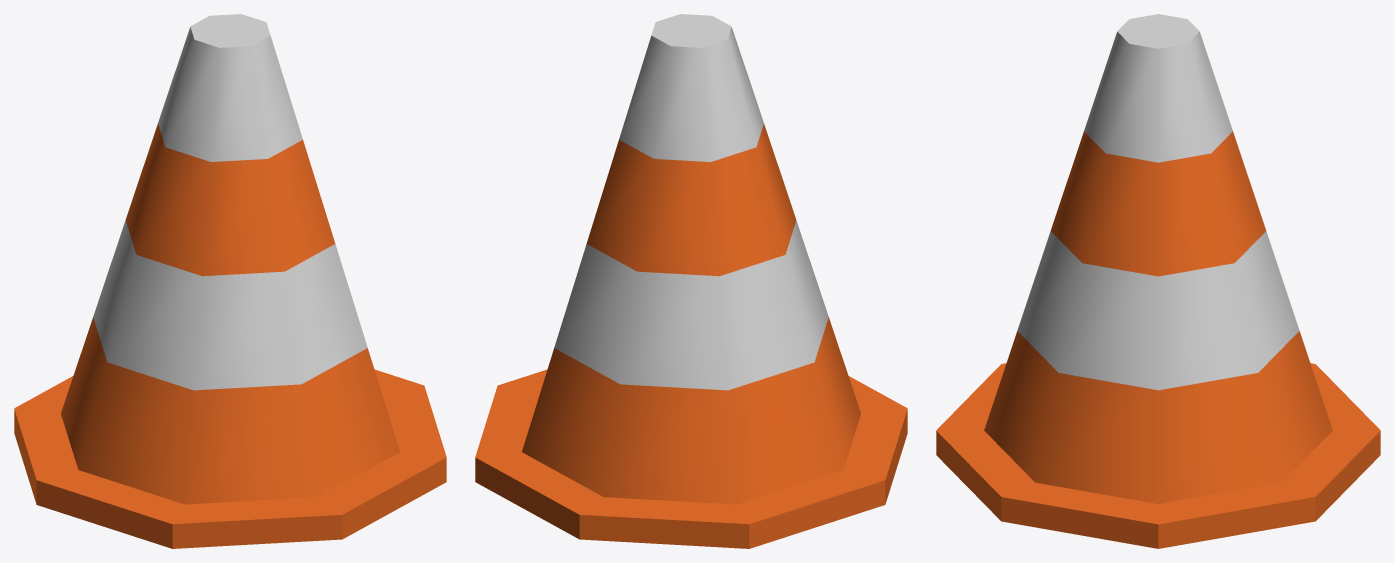
The picture shows the model from 3 angles, left to right: view 1: azimuth 30°, elevation 25°; view 2: azimuth 150°, elevation 25°; view 3: azimuth 270°, elevation 25°; orthographic projection.
Parts seen in each view (by area): view 1: Cone_01; view 2: Cone_01; view 3: Cone_01.
Part boxes in pixels (bbox=[...]): Cone_01: bbox=[14, 14, 446, 548]; Cone_01: bbox=[475, 14, 907, 548]; Cone_01: bbox=[936, 14, 1380, 548].
Size of the model in its own units: 1.42 by 1.5 by 1.42.
